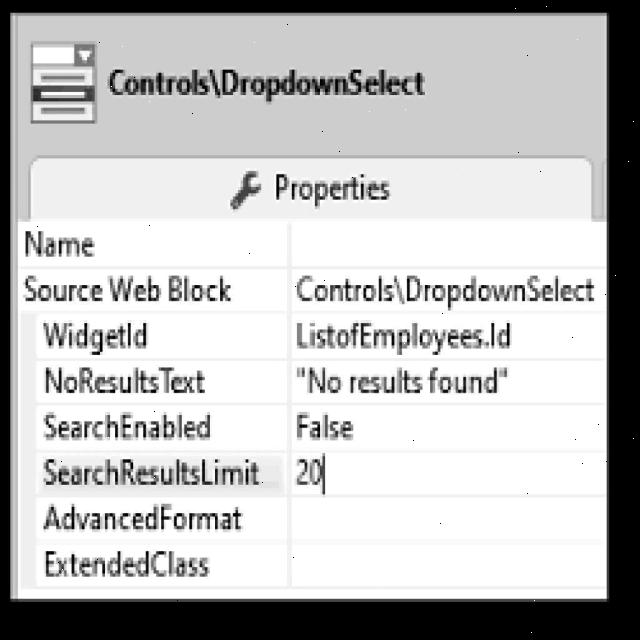icon: (23, 34, 102, 127), (218, 168, 272, 213)
input: (17, 219, 605, 592)
label: (108, 54, 434, 103), (289, 269, 597, 307), (289, 313, 516, 359), (39, 450, 265, 490), (19, 270, 243, 310), (292, 362, 516, 400), (38, 539, 218, 582), (38, 358, 210, 401), (38, 500, 248, 534), (39, 407, 218, 442), (273, 166, 399, 207), (38, 316, 156, 356), (288, 403, 369, 448), (17, 226, 99, 266), (290, 448, 328, 497)
